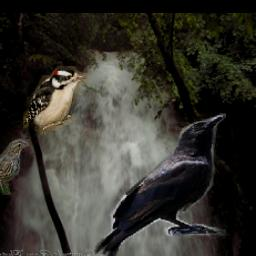Crow: (93, 114, 225, 256)
Sparrow: (0, 138, 29, 195)
Woodpecker: (22, 66, 88, 135)
